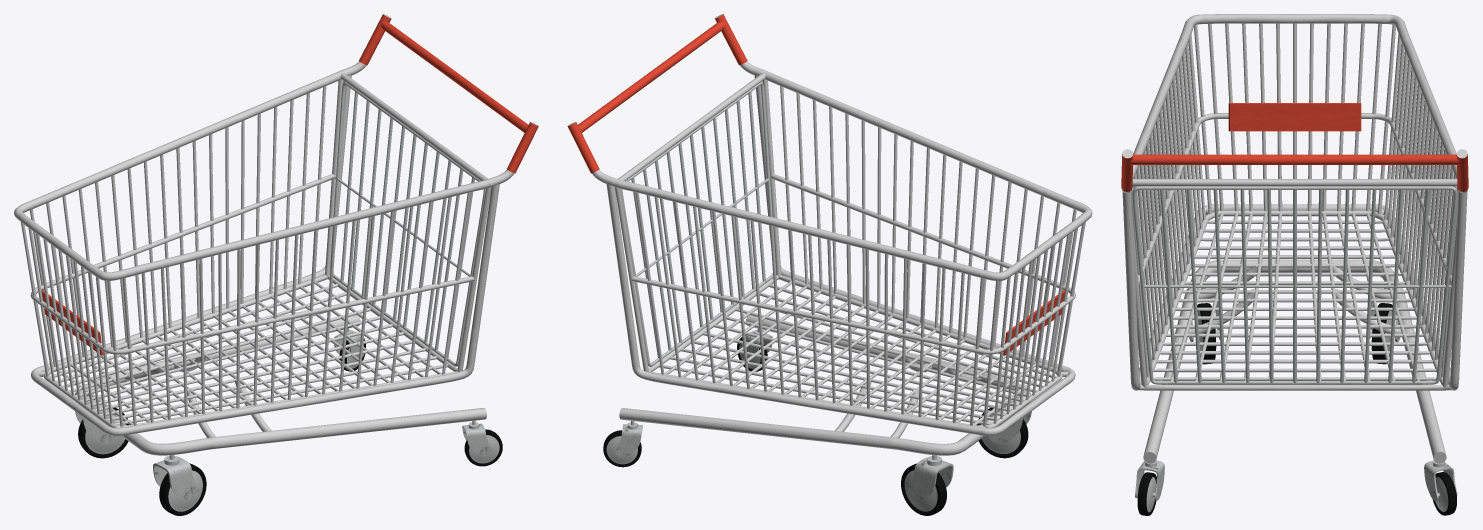
Rendered from market_cart.glb.
3 renders of one model, left to right at view 1: azimuth 30°, elevation 25°; view 2: azimuth 150°, elevation 25°; view 3: azimuth 270°, elevation 25°, orthographic. The views are drawn at different scales.
Visible parts, largest first — view 1: Market_Cart.Shape, Chango.003.Shape, Market_Cart_wheel.001.Shape, Market_Cart_wheel.Shape, Market_Cart_wheel.003.Shape; view 2: Market_Cart.Shape, Chango.003.Shape, Market_Cart_wheel.003.Shape, Market_Cart_wheel.002.Shape, Market_Cart_wheel.001.Shape; view 3: Market_Cart.Shape, Chango.003.Shape, Market_Cart_wheel.002.Shape, Market_Cart_wheel.Shape, Market_Cart_wheel.003.Shape, Market_Cart_wheel.001.Shape.
Boxes of the visible parts, x1,y1,x2,y2 form: Market_Cart.Shape: (14, 14, 538, 455); Chango.003.Shape: (330, 82, 485, 366); Market_Cart_wheel.001.Shape: (153, 455, 206, 515); Market_Cart_wheel.Shape: (462, 420, 502, 466); Market_Cart_wheel.003.Shape: (75, 393, 129, 458); Market_Cart.Shape: (567, 14, 1092, 455); Chango.003.Shape: (620, 82, 776, 366); Market_Cart_wheel.003.Shape: (901, 455, 953, 515); Market_Cart_wheel.002.Shape: (603, 421, 642, 467); Market_Cart_wheel.001.Shape: (977, 393, 1031, 458); Market_Cart.Shape: (1121, 14, 1468, 463); Chango.003.Shape: (1132, 186, 1457, 384); Market_Cart_wheel.002.Shape: (1424, 460, 1457, 515); Market_Cart_wheel.Shape: (1135, 460, 1164, 515); Market_Cart_wheel.003.Shape: (1366, 288, 1404, 364); Market_Cart_wheel.001.Shape: (1186, 288, 1220, 364).
Bounding box in the file's own units: 1.43 × 1.14 × 0.9256.
Materials: 15 (14 with a texture image).
